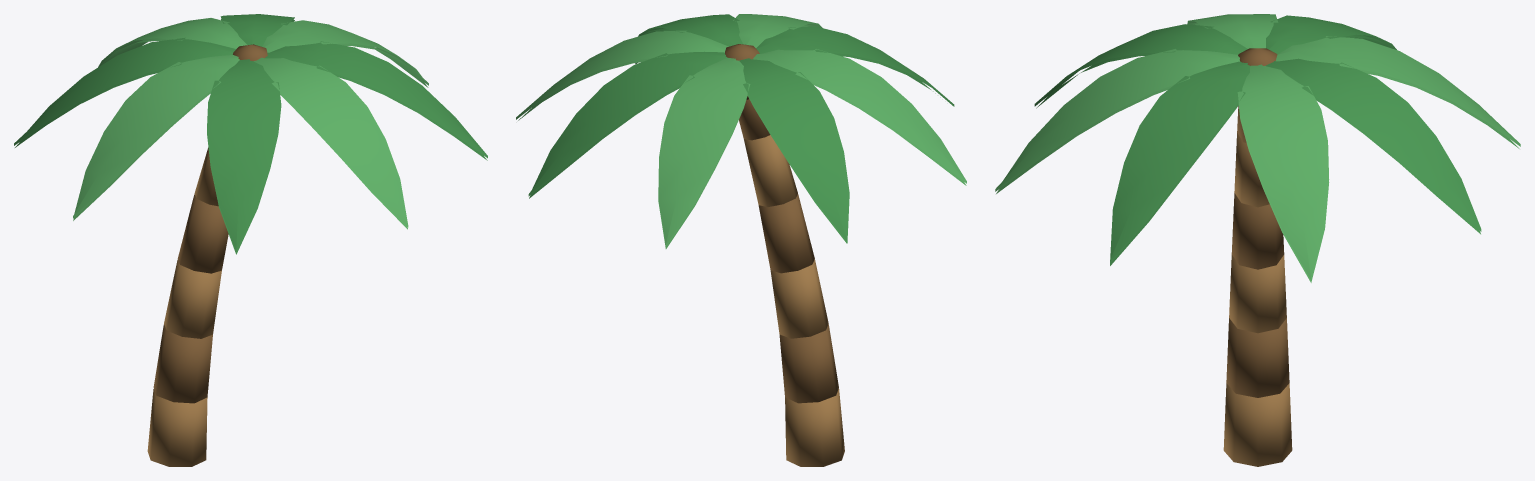
The model's file is xy_beach_palm.glb.
3 renders of one model, left to right at view 1: azimuth 30°, elevation 25°; view 2: azimuth 150°, elevation 25°; view 3: azimuth 270°, elevation 25°, orthographic. The views are drawn at different scales.
Parts seen in each view (by area): view 1: Palm; view 2: Palm; view 3: Palm.
Boxes of the visible parts, x1,y1,x2,y2 form: Palm: (14,14,487,466); Palm: (516,14,966,466); Palm: (995,14,1520,466).
Size of the model in its own units: 4.9 by 4.58 by 4.9.
